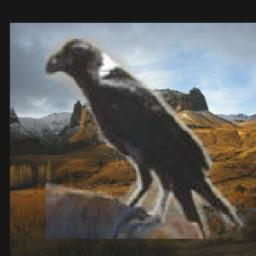Crow: (46, 29, 246, 239)
